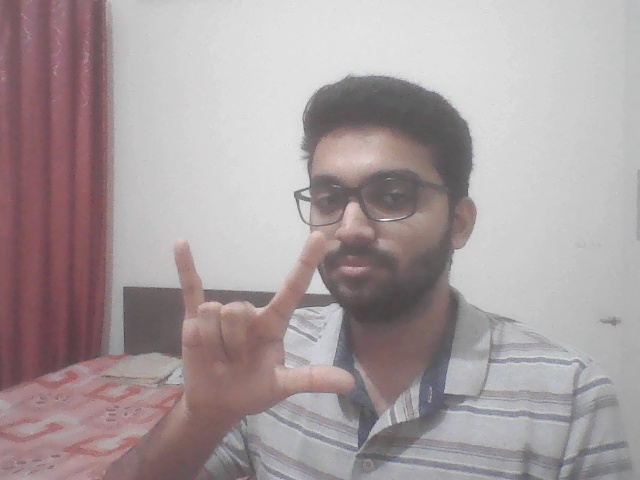iloveyou: (133, 221, 357, 438)
